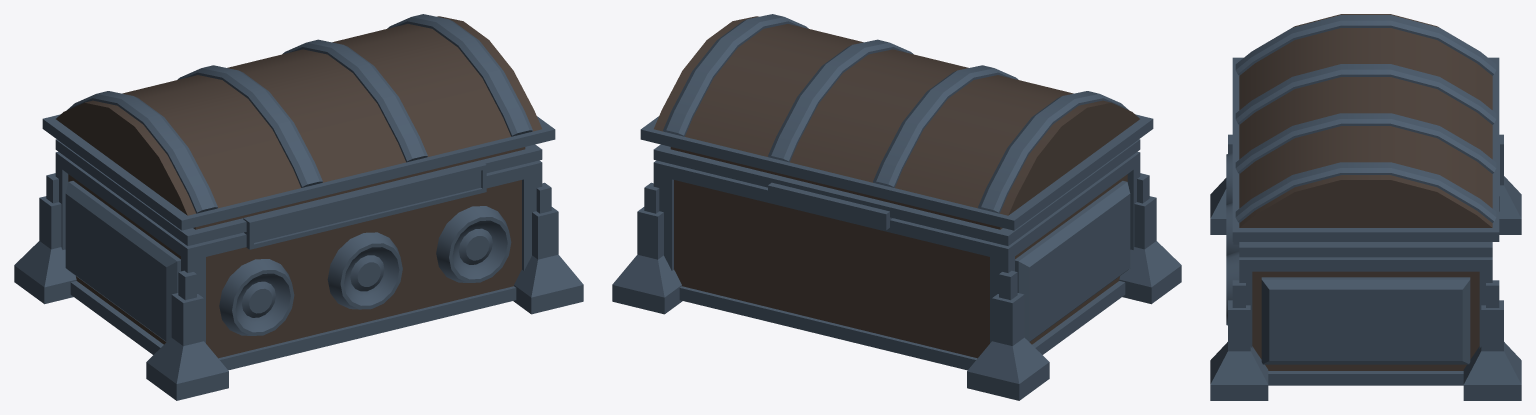
The model's file is decorativechest.fbx.
3 renders of one model, left to right at view 1: azimuth 30°, elevation 25°; view 2: azimuth 150°, elevation 25°; view 3: azimuth 270°, elevation 25°, orthographic. The views are drawn at different scales.
Visible parts, largest first — view 1: Cube.002, Cube.012; view 2: Cube.002, Cube.012; view 3: Cube.012, Cube.002.
Part boxes in pixels (x1,y1,x2,y2): Cube.002: (14,151,583,400); Cube.012: (42,14,555,245); Cube.002: (612,151,1181,400); Cube.012: (640,14,1153,245); Cube.012: (1232,14,1499,257); Cube.002: (1210,134,1521,400).
Size of the model in its own units: 2.85 by 1.49 by 1.97.
